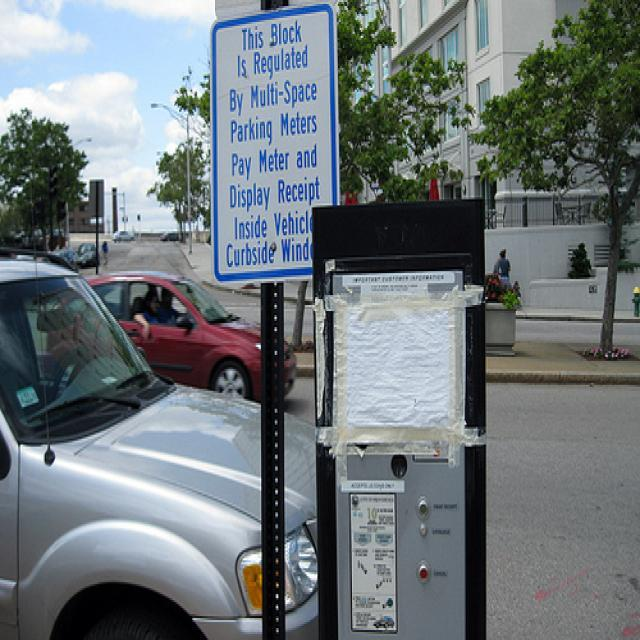fire_hydrant: (630, 285, 640, 317)
